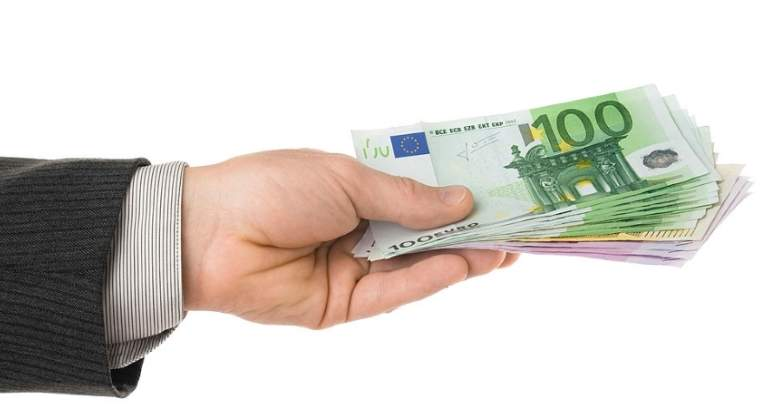billete: (349, 82, 756, 273)
